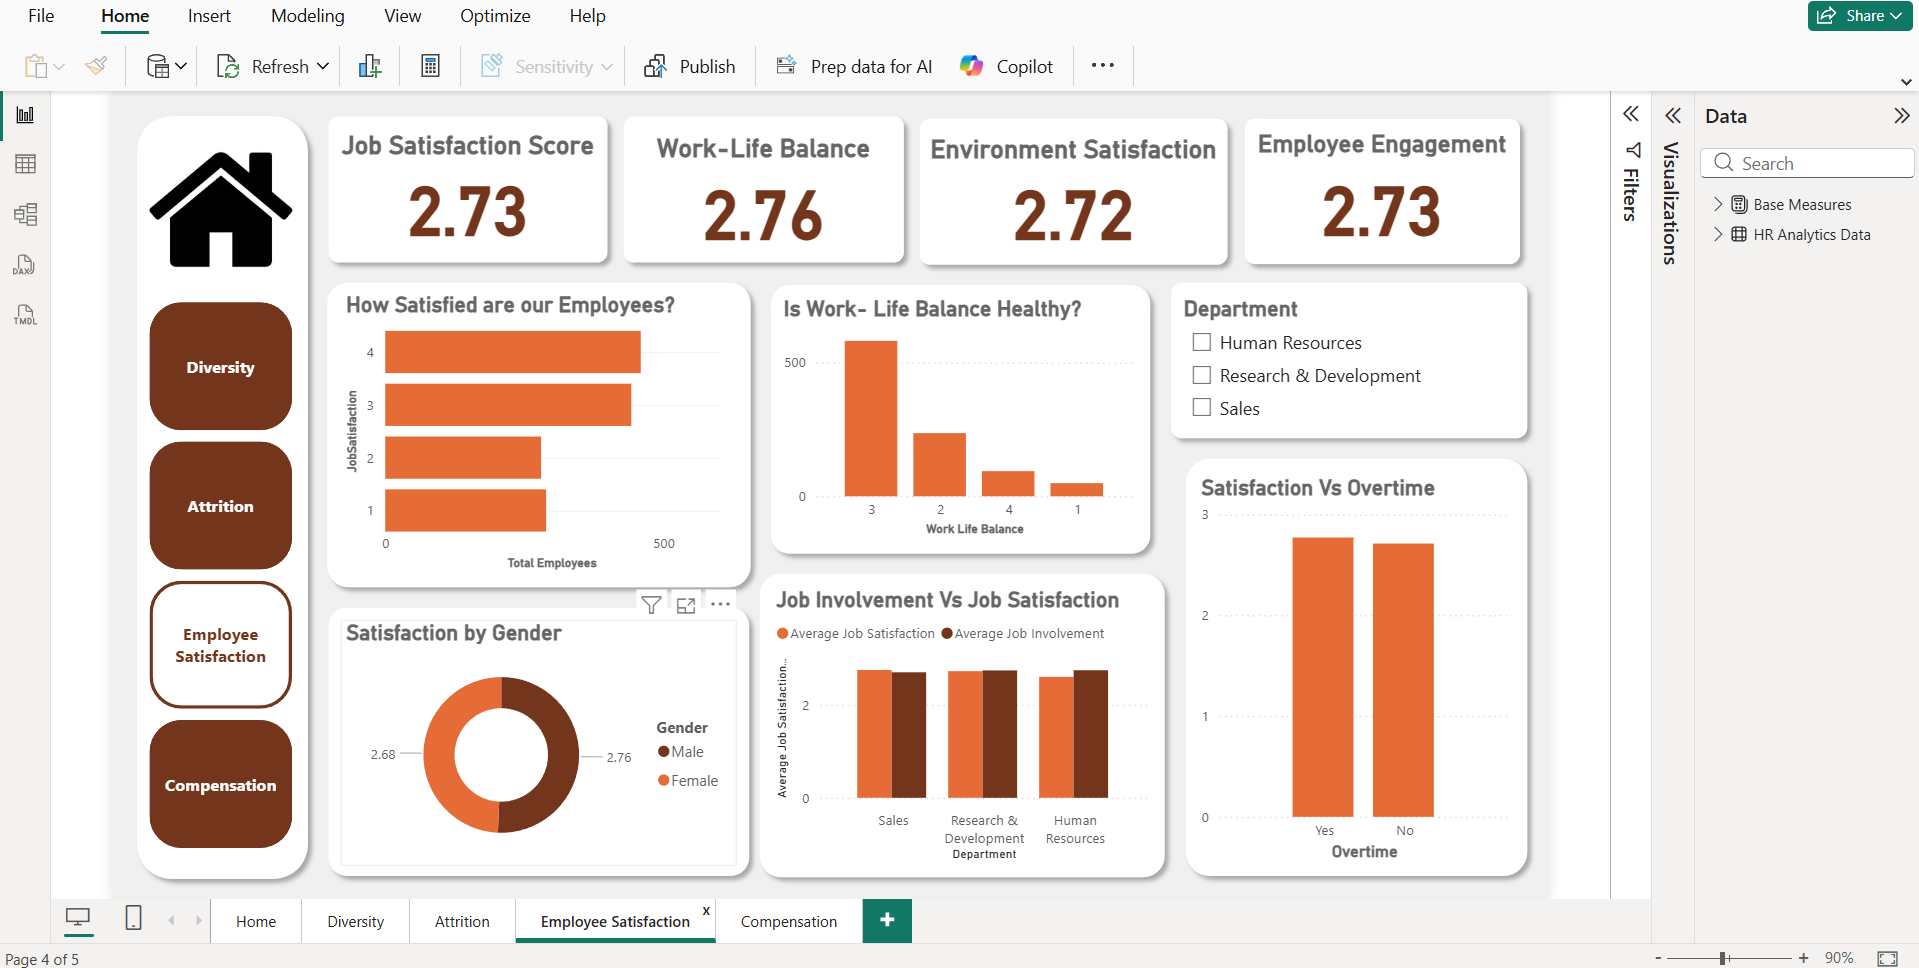

This screenshot's page, from the dashboard's own definition file:
{"tool":"powerbi","page":{"name":"Employee Satisfaction","canvas":[1280,720],"ordinal":3},"visuals":[{"type":"group","id":"g1","title":"Group 3","box":[710.4,15.7,292,149.6],"z":0},{"type":"group","id":"g2","title":"Group 4","box":[1000.1,15.7,263,147.2],"z":1000},{"type":"card","title":"Environment Satisfaction","fields":{"Values":["HR Analytics Data.Average Environment Satisfaction"]},"box":[723.9,37.4,265.4,103.8],"z":2000},{"type":"shape","box":[933.8,161.7,335.4,156.8],"z":3000},{"type":"shape","box":[183.4,13.3,266.6,148.4],"z":4000},{"type":"shape","box":[947.1,318.5,322.1,389.7],"z":5000},{"type":"shape","box":[446.1,13.3,267.8,148.4],"z":6000,"group":"g3"},{"type":"shape","box":[710.4,15.7,292.2,148.2],"z":6000,"group":"g1"},{"type":"shape","box":[577.2,163.5,355.9,257.5],"z":6000},{"type":"shape","box":[1000.1,15.7,263.3,147.6],"z":7000,"group":"g2"},{"type":"shape","box":[183.8,451.3,392.9,257.1],"z":7000},{"type":"shape","box":[13.3,13.3,170.1,697.3],"z":8000},{"type":"shape","box":[568.2,421,378.8,288.3],"z":9000},{"type":"shape","box":[182.8,161.8,395.2,289.5],"z":10000},{"type":"card","title":"Job Satisfaction Score","fields":{"Values":["Base Measures.Average Job Satisfaction"]},"box":[196.6,35,240.1,102.5],"z":11000},{"type":"clusteredColumnChart","title":"Job Involvement Vs Job Satisfaction","fields":{"Y":["Base Measures.Average Job Satisfaction","Base Measures.Average Job Involvement"],"Category":["HR Analytics Data.Department"]},"box":[586.3,441.6,341.4,248.5],"z":12000},{"type":"card","title":"Employee Engagement","fields":{"Values":["Base Measures.Average Job Involvement"]},"box":[1013.4,35,236.5,105],"z":13000},{"type":"columnChart","title":"Is Work- Life Balance Healthy?","fields":{"Y":["Base Measures.Total Employees"],"Category":["HR Analytics Data.WorkLifeBalance"]},"box":[593.6,182.2,320.9,218.4],"z":14000},{"type":"card","title":"Work-Life Balance","fields":{"Values":["Base Measures.Average Work Life Balance"]},"box":[461.8,36.2,236.5,105],"z":15000,"group":"g3"},{"type":"columnChart","title":"Satisfaction Vs Overtime","fields":{"Category":["HR Analytics Data.OverTime"],"Y":["Base Measures.Average Job Satisfaction"]},"box":[965.2,341.4,284.7,348.7],"z":15000},{"type":"barChart","title":"How Satisfied are our Employees?","fields":{"Category":["HR Analytics Data.JobSatisfaction"],"Y":["Base Measures.Total Employees"]},"box":[203.9,179.8,352.3,252.1],"z":16000},{"type":"group","id":"g3","title":"Group 2","box":[446.1,13.3,267.8,148.4],"z":17000},{"type":"donutChart","title":"Satisfaction by Gender","fields":{"Category":["HR Analytics Data.Gender"],"Y":["Base Measures.Average Job Satisfaction"]},"box":[203.9,470.5,352.3,219.6],"z":18000},{"type":"slicer","title":"Department","fields":{"Values":["HR Analytics Data.Department"]},"box":[949.5,182.2,302.8,123.1],"z":19000},{"type":"pageNavigator","box":[33.8,188.2,127.9,489.8],"z":20000},{"type":"image","box":[33.8,36.2,127.5,137.5],"z":21000}]}

Visuals, with their boxes on the page's 1280x720 design canvas (x1, y1, x2, y2). These are canvas units, not pixel positions in the 1919x968 screenshot, which may show the page scaled, cropped or inside an application window:
"Group 3" group: pyautogui.locateOnScreen(710, 16, 1002, 165)
"Group 4" group: pyautogui.locateOnScreen(1000, 16, 1263, 163)
"Environment Satisfaction" card: pyautogui.locateOnScreen(724, 37, 989, 141)
shape: pyautogui.locateOnScreen(934, 162, 1269, 318)
shape: pyautogui.locateOnScreen(183, 13, 450, 162)
shape: pyautogui.locateOnScreen(947, 318, 1269, 708)
shape: pyautogui.locateOnScreen(446, 13, 714, 162)
shape: pyautogui.locateOnScreen(710, 16, 1003, 164)
shape: pyautogui.locateOnScreen(577, 164, 933, 421)
shape: pyautogui.locateOnScreen(1000, 16, 1263, 163)
shape: pyautogui.locateOnScreen(184, 451, 577, 708)
shape: pyautogui.locateOnScreen(13, 13, 183, 711)
shape: pyautogui.locateOnScreen(568, 421, 947, 709)
shape: pyautogui.locateOnScreen(183, 162, 578, 451)
"Job Satisfaction Score" card: pyautogui.locateOnScreen(197, 35, 437, 138)
"Job Involvement Vs Job Satisfaction" clusteredColumnChart: pyautogui.locateOnScreen(586, 442, 928, 690)
"Employee Engagement" card: pyautogui.locateOnScreen(1013, 35, 1250, 140)
"Is Work- Life Balance Healthy?" columnChart: pyautogui.locateOnScreen(594, 182, 914, 401)
"Work-Life Balance" card: pyautogui.locateOnScreen(462, 36, 698, 141)
"Satisfaction Vs Overtime" columnChart: pyautogui.locateOnScreen(965, 341, 1250, 690)
"How Satisfied are our Employees?" barChart: pyautogui.locateOnScreen(204, 180, 556, 432)
"Group 2" group: pyautogui.locateOnScreen(446, 13, 714, 162)
"Satisfaction by Gender" donutChart: pyautogui.locateOnScreen(204, 470, 556, 690)
"Department" slicer: pyautogui.locateOnScreen(950, 182, 1252, 305)
pageNavigator: pyautogui.locateOnScreen(34, 188, 162, 678)
image: pyautogui.locateOnScreen(34, 36, 161, 174)
